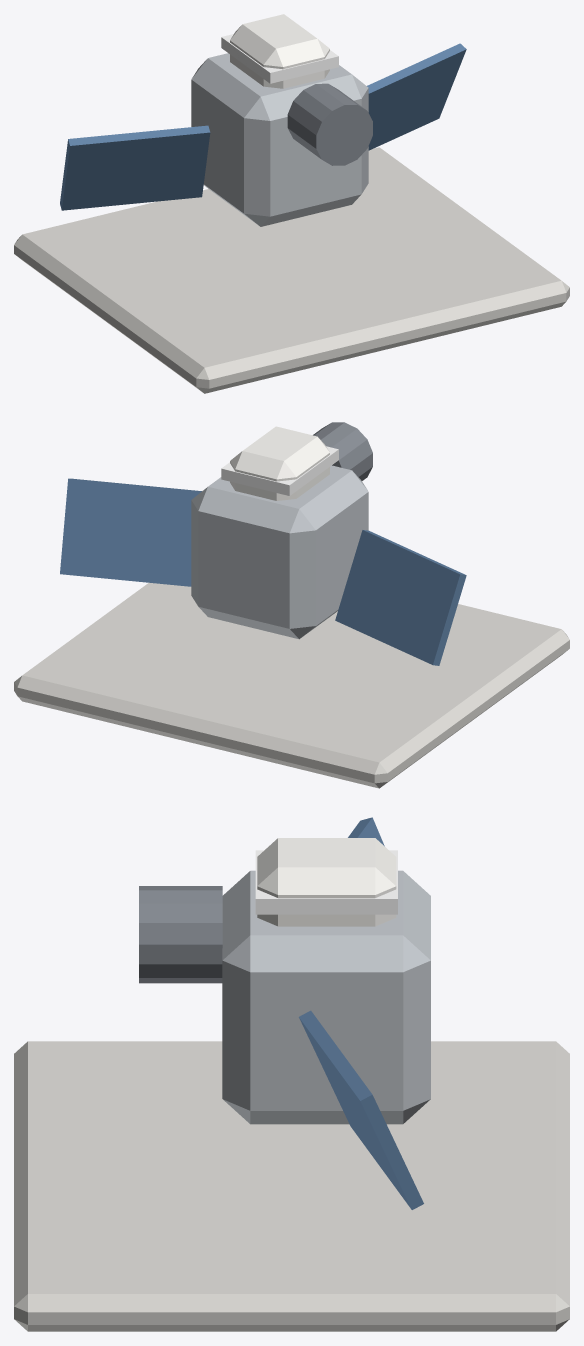
Rendered from laser.glb.
The picture shows the model from 3 angles, top to bottom: view 1: azimuth 30°, elevation 25°; view 2: azimuth 150°, elevation 25°; view 3: azimuth 270°, elevation 25°; orthographic projection. The views are drawn at different scales.
Parts seen in each view (by area): view 1: main, turret; view 2: main, turret; view 3: main, turret.
Boxes of the visible parts, x1,y1,x2,y2 form: main: (14,43,569,393); turret: (221,14,372,165); main: (14,465,569,788); turret: (221,422,372,500); main: (14,817,569,1331); turret: (139,838,397,983).
Bounding box in the file's own units: 0.9551 × 0.56 × 0.8.
